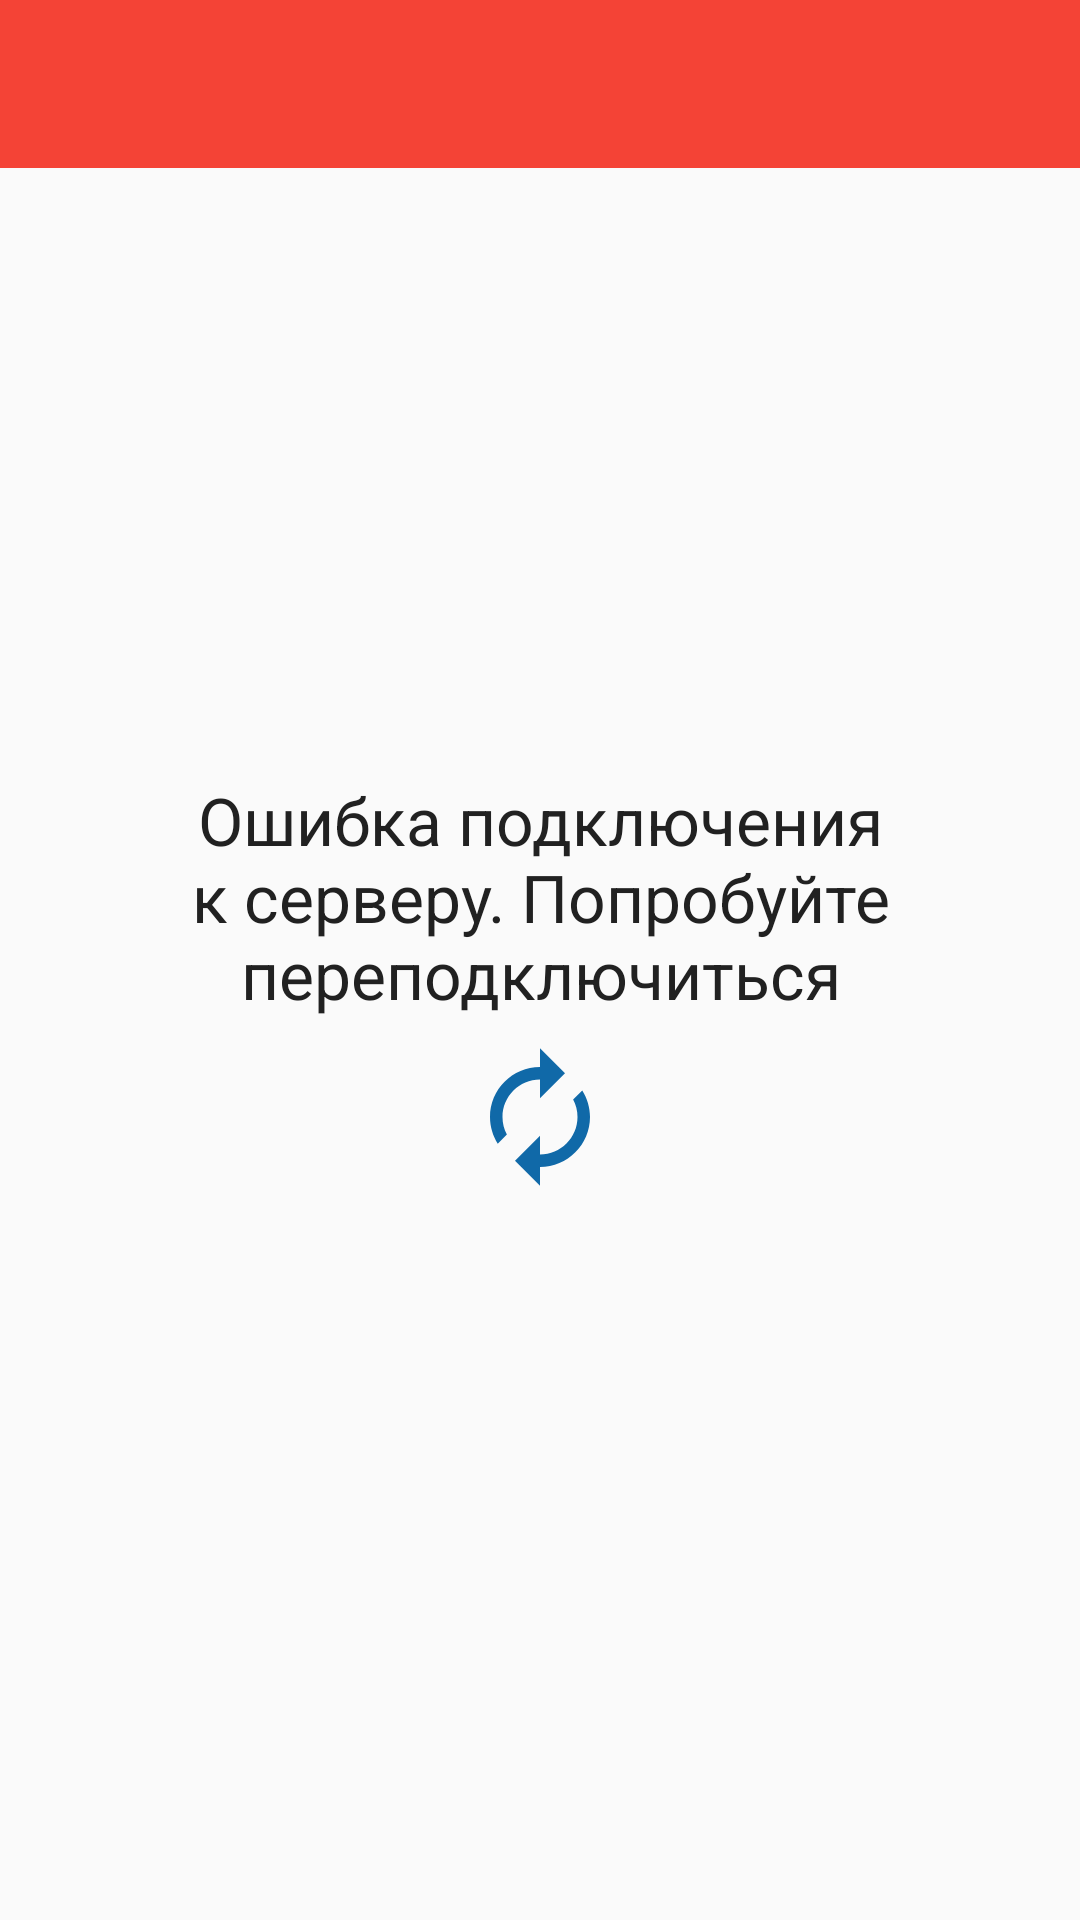

Named icons in this screenshot (1080×1920) and their centers, point (x, y):
autorenew: point (540, 1117)
